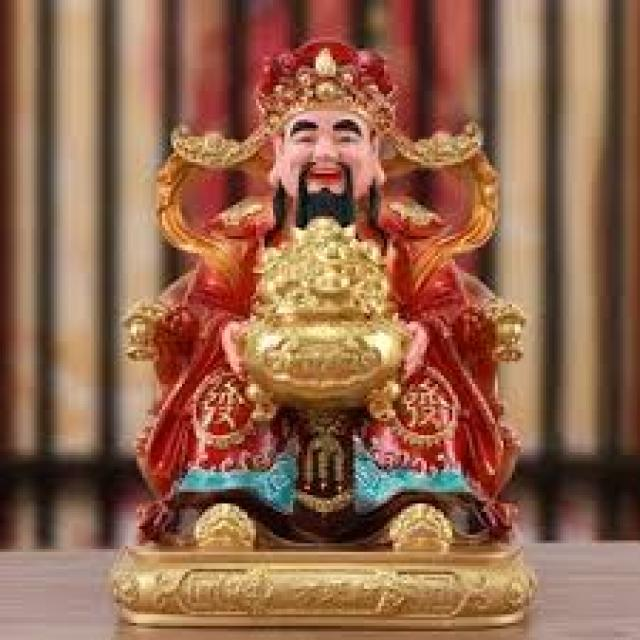Cai shen: (148, 38, 498, 550)
